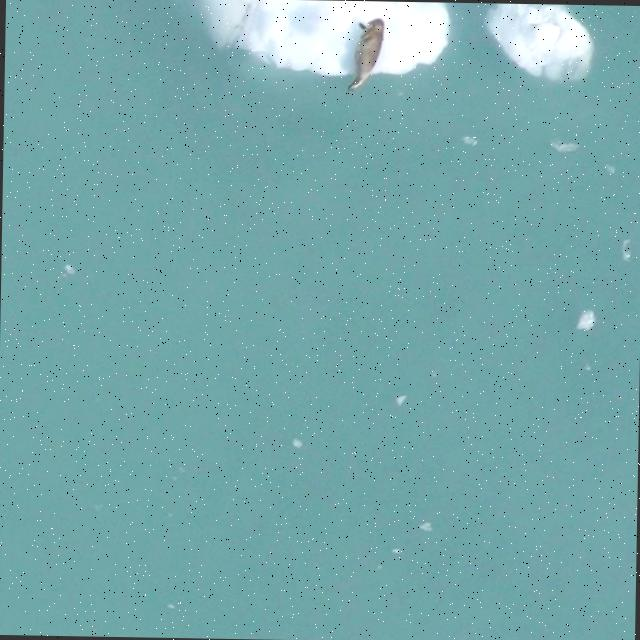seal: (340, 12, 391, 96)
